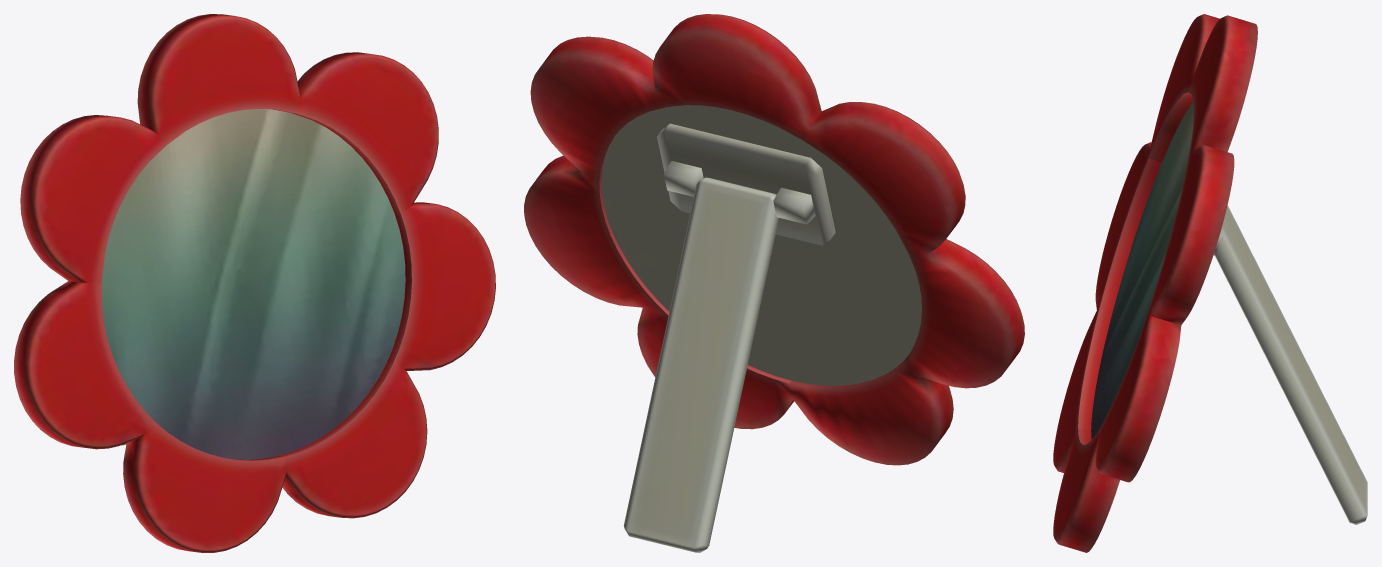
The picture shows the model from 3 angles, left to right: view 1: azimuth 30°, elevation 25°; view 2: azimuth 150°, elevation 25°; view 3: azimuth 270°, elevation 25°; orthographic projection. The views are drawn at different scales.
Bounding box in the file's own units: 7.02 × 6.67 × 3.92.
2 materials, 2 textured.
